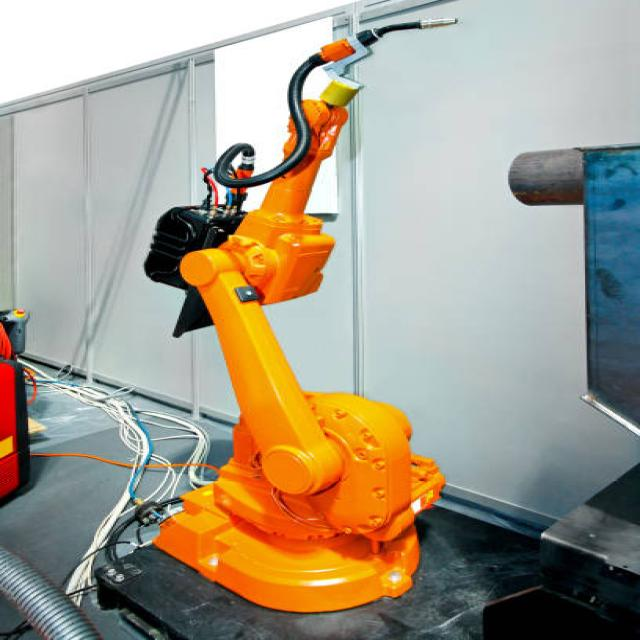Robotic-arm: (137, 54, 456, 617)
